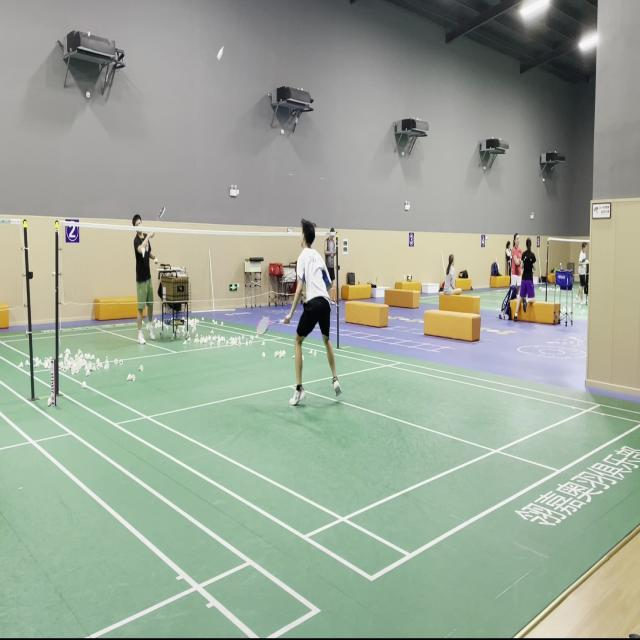shuttlecock: (215, 44, 226, 62)
